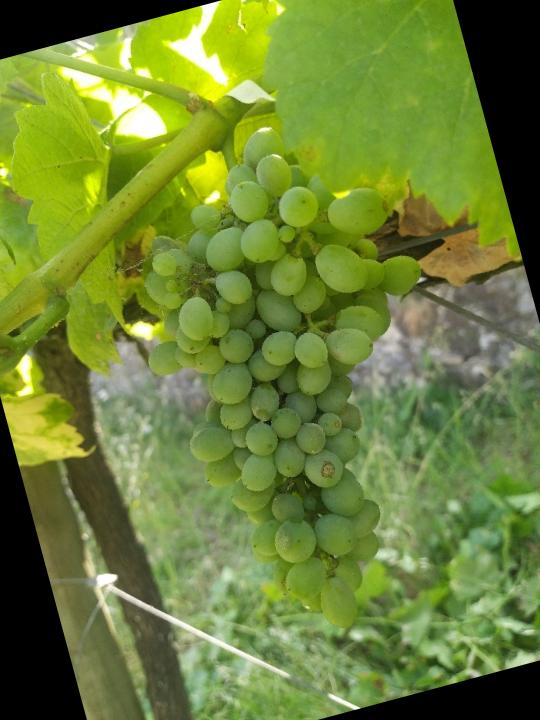grape: (90, 92, 510, 668)
